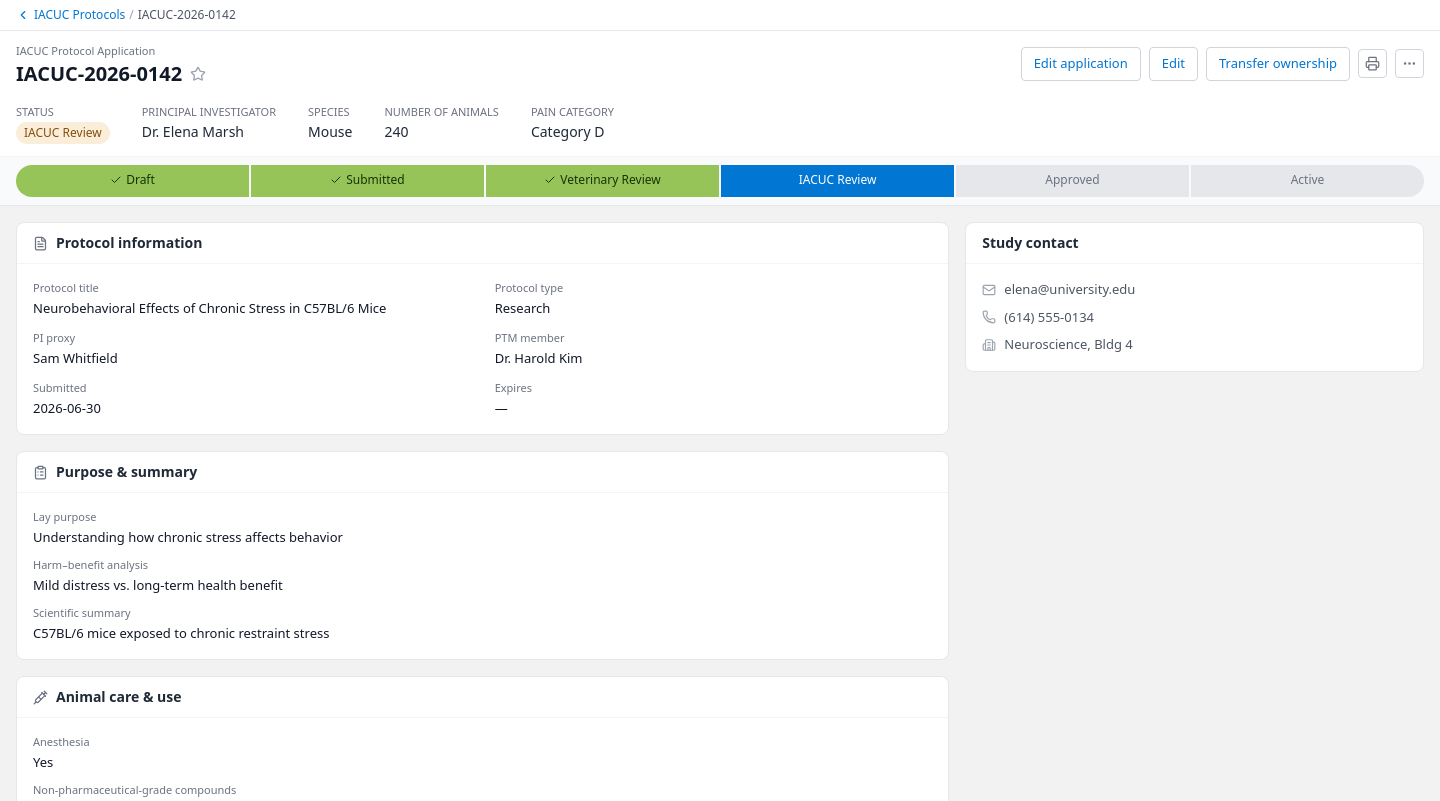
Scenario: DetailPage › transfer modal shows a pending-notice instead of the form when a request is in flight
This screenshot has width=1440, height=801.
Expected: the heading "IACUC-2026-0142" is shown, [16,60,182,88]
Click the button "Transfer ownership" at [1278, 64], box [1206,47,1350,80]
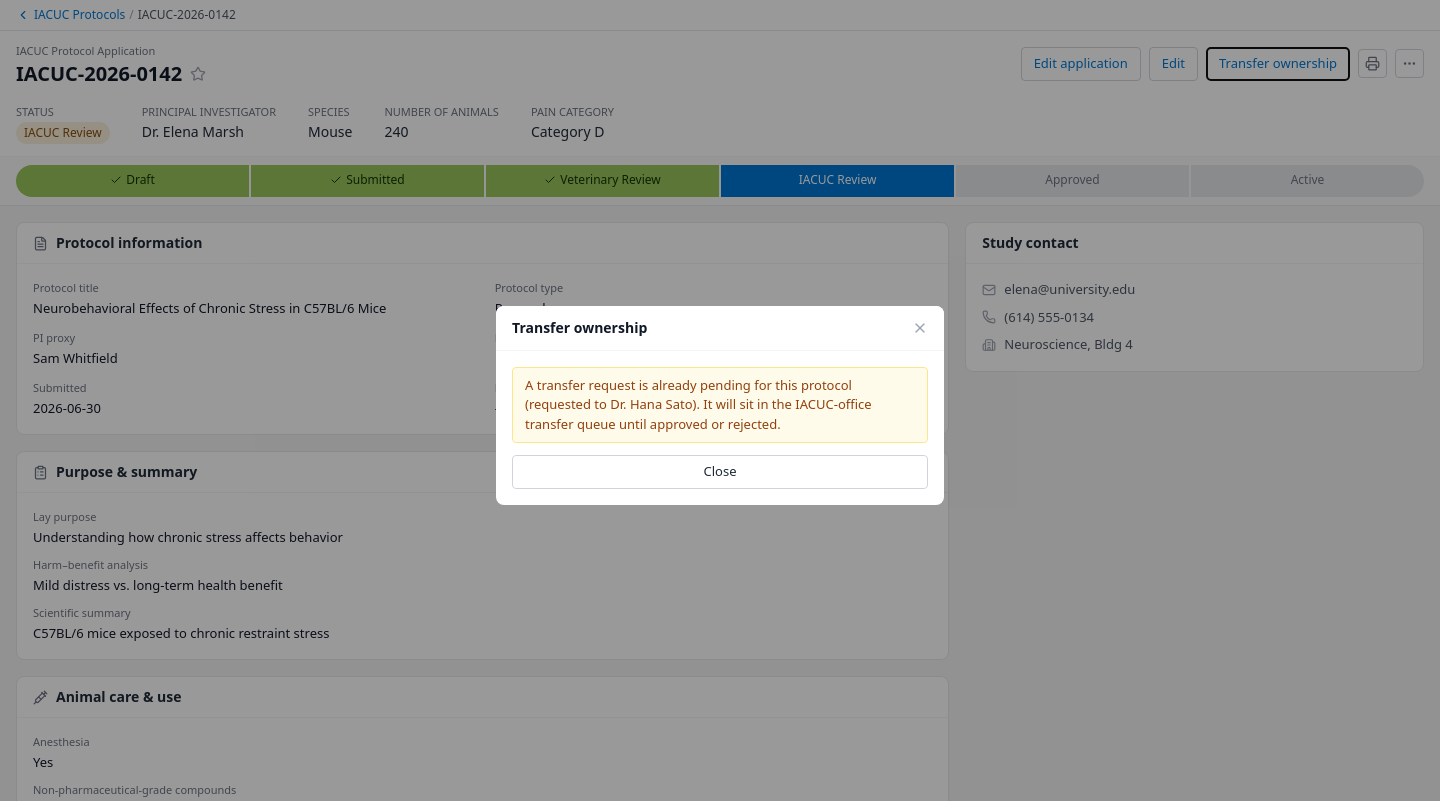
Result: the text "already pending for this protocol" is shown at [525,376,852,413]
